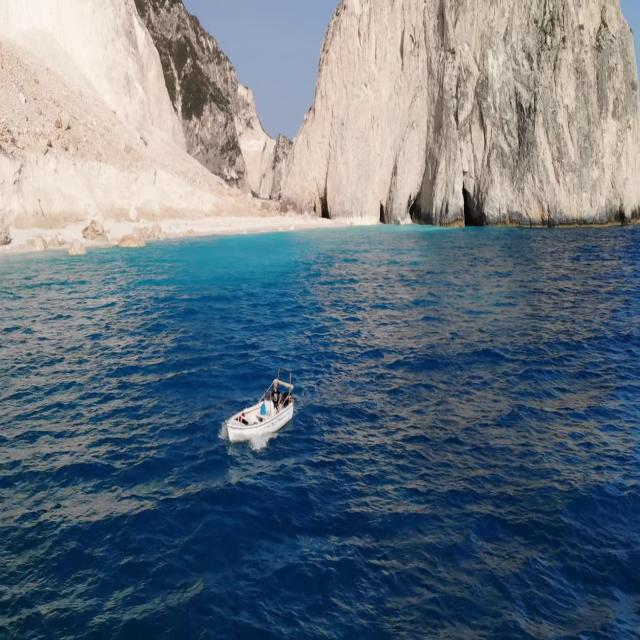boat: (222, 380, 298, 455)
